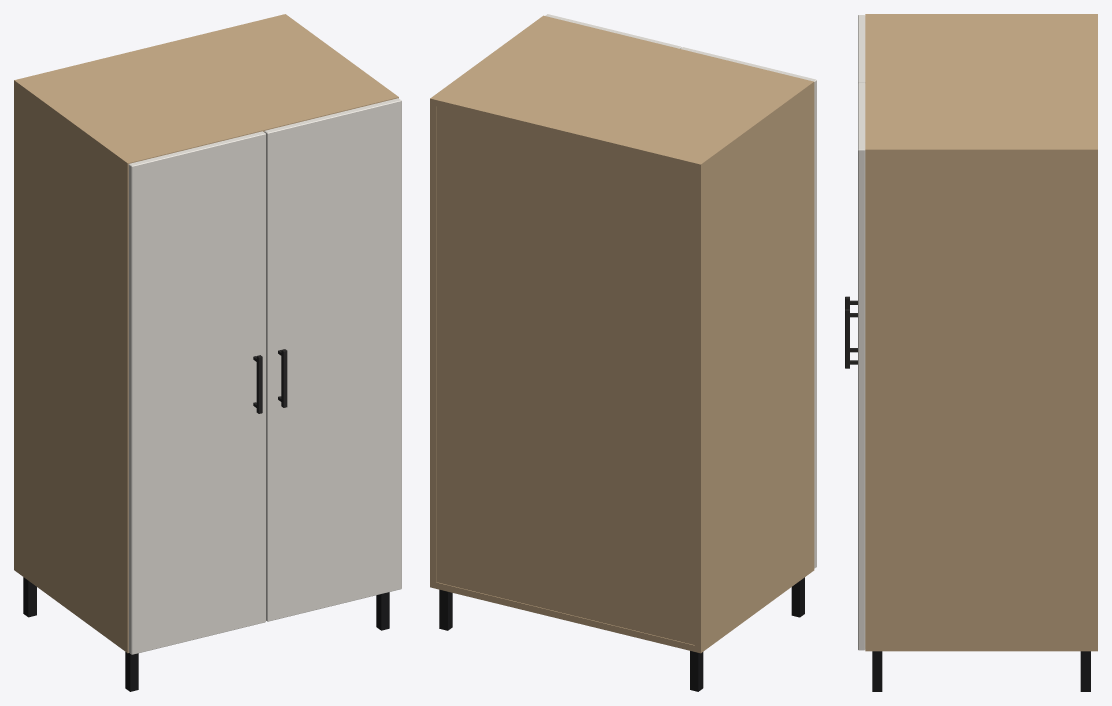
Rendered from 24_szafa_niska_80.glb.
3 views of the same model, side by side, from view 1: azimuth 30°, elevation 25°; view 2: azimuth 150°, elevation 25°; view 3: azimuth 270°, elevation 25° (orthographic). The views are drawn at different scales.
Parts seen in each view (by area): view 1: Korpus, Front_drzwi_1, Front_drzwi_2, Nogi, Uchwyty; view 2: Korpus, Front_drzwi_1, Nogi; view 3: Korpus, Front_drzwi_2, Nogi, Front_drzwi_1, Uchwyty.
Boxes of the visible parts, x1,y1,x2,y2 form: Korpus: [14, 14, 398, 653]; Front_drzwi_1: [128, 131, 265, 654]; Front_drzwi_2: [264, 98, 401, 621]; Nogi: [23, 577, 389, 691]; Uchwyty: [253, 349, 287, 413]; Korpus: [430, 15, 814, 653]; Front_drzwi_1: [681, 47, 816, 568]; Nogi: [439, 577, 804, 691]; Korpus: [865, 14, 1097, 651]; Front_drzwi_2: [858, 83, 865, 650]; Nogi: [872, 651, 1090, 691]; Front_drzwi_1: [858, 15, 865, 82]; Uchwyty: [845, 296, 857, 368].
Bounding box in the file's own units: 0.8 × 1.5 × 0.63.
